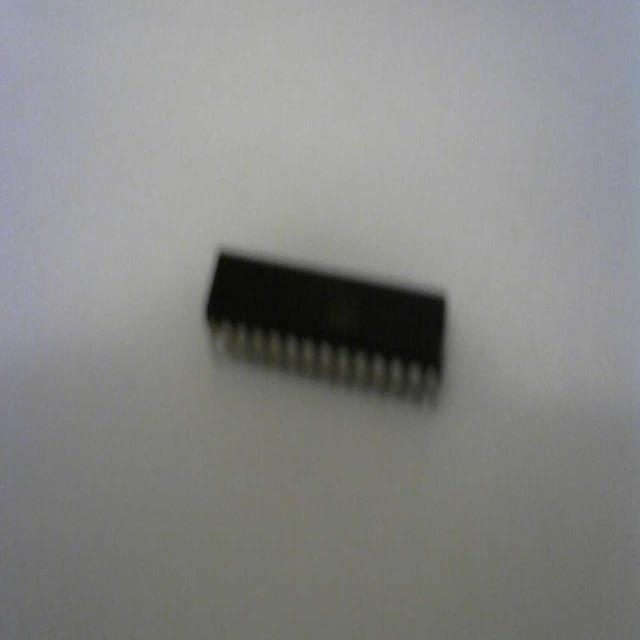atmega: (203, 243, 449, 408)
